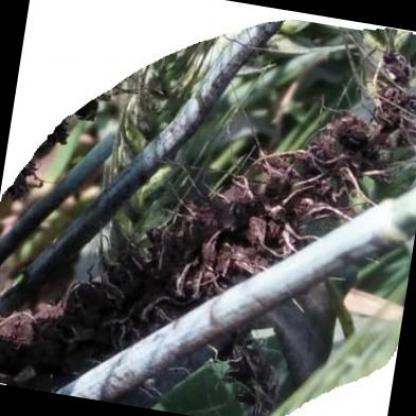Wheat Smut: (215, 196, 267, 264), (91, 273, 135, 343), (178, 219, 216, 284), (136, 249, 169, 311), (51, 309, 87, 356), (1, 316, 43, 353), (381, 91, 415, 134), (233, 180, 324, 196), (272, 197, 291, 253), (266, 157, 312, 176), (318, 139, 346, 167), (351, 124, 378, 146), (388, 45, 410, 71), (176, 288, 208, 296)
